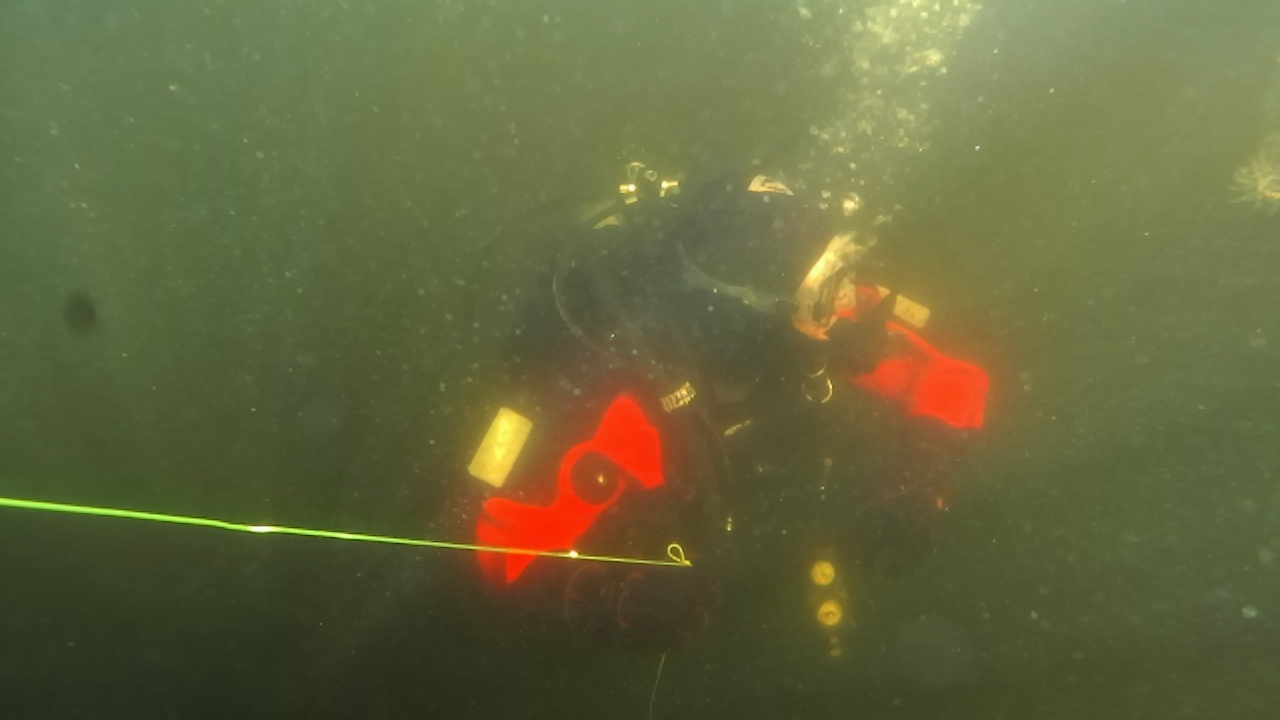Diver: (450, 136, 1006, 678)
Hand: (580, 542, 724, 660)
Head: (672, 168, 868, 370)
